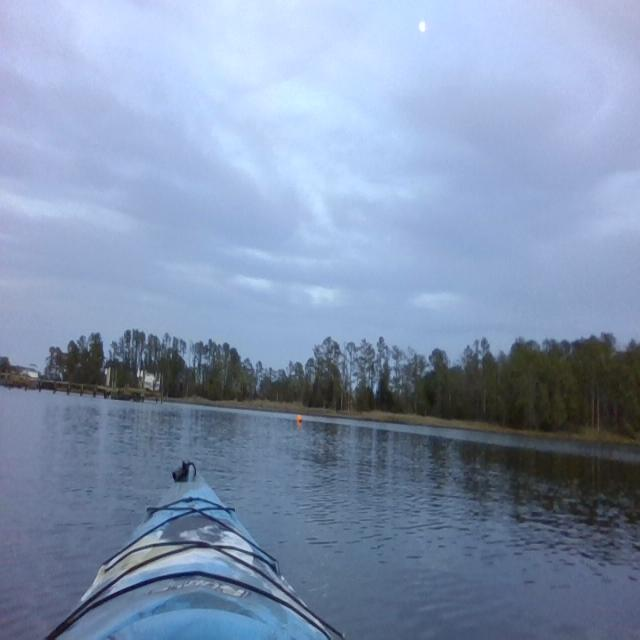Buoy: (297, 411, 305, 431)
